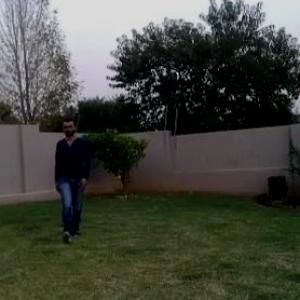follow: (53, 118, 92, 241)
